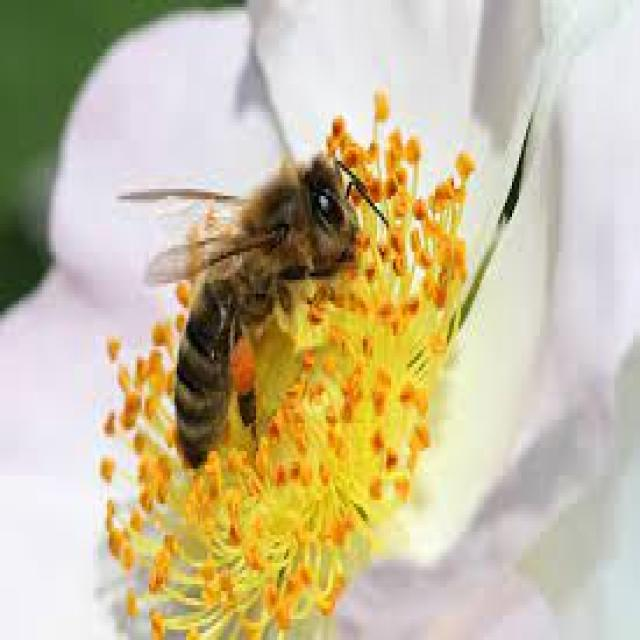Bees: (118, 150, 390, 473)
